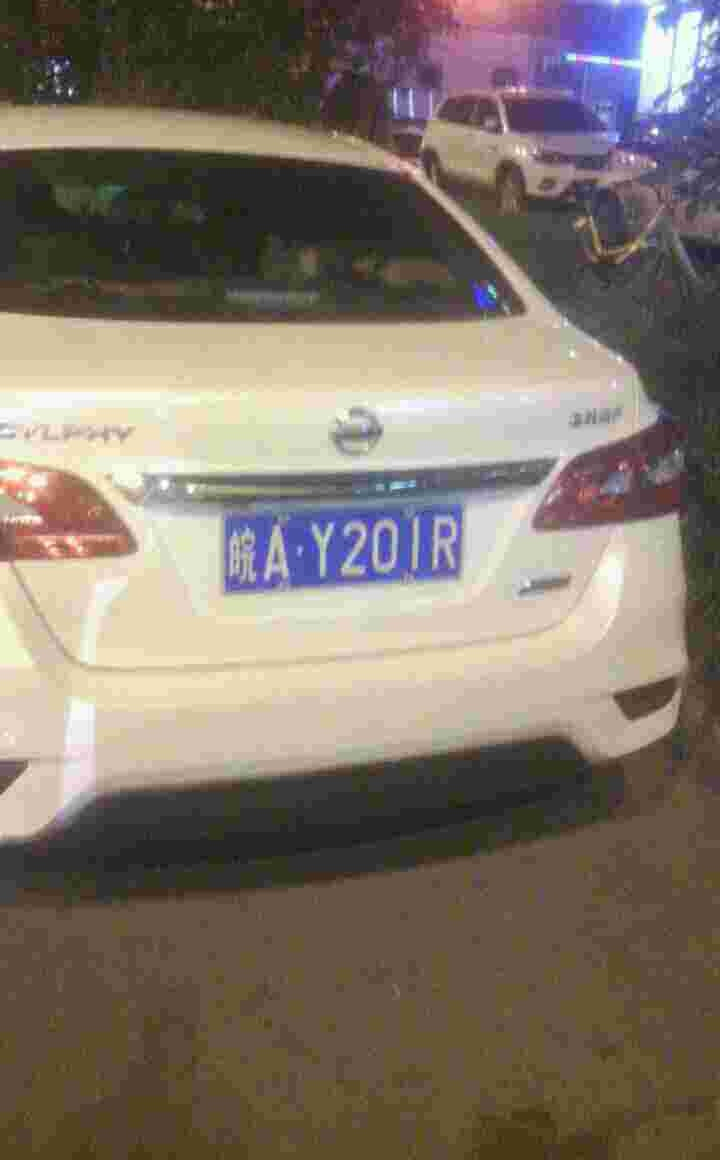plate: (227, 497, 472, 599)
